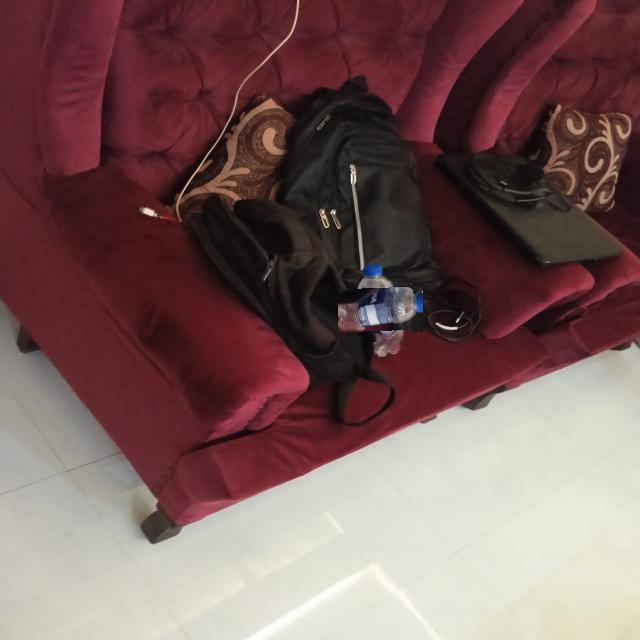Plastic: (348, 279, 413, 343)
